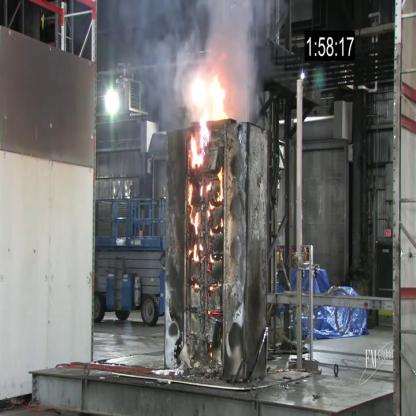fire: (188, 71, 227, 119), (187, 180, 205, 266), (206, 174, 225, 234), (188, 121, 210, 172)
